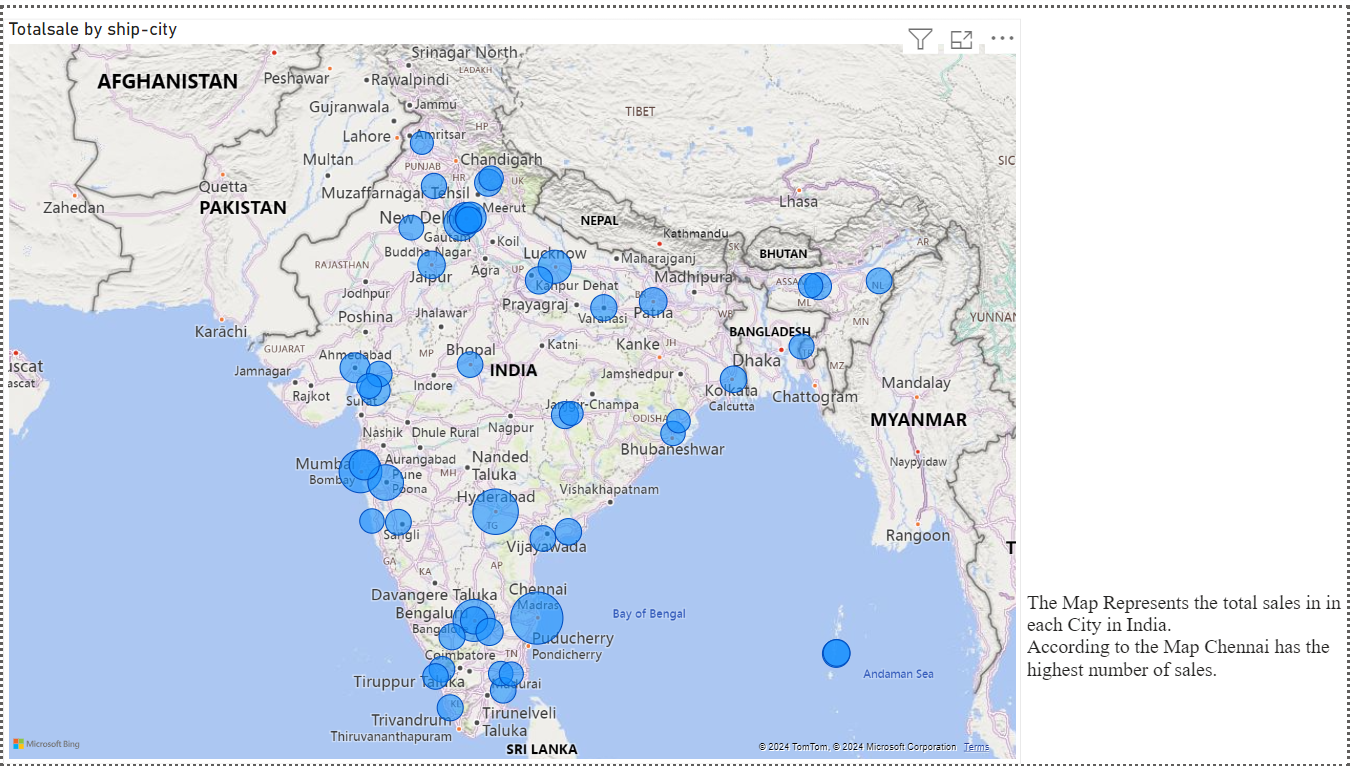

What the dashboard file says about the page in this screenshot:
{"tool":"powerbi","page":{"name":"S.Totalsale","canvas":[1280,720],"ordinal":1},"visuals":[{"type":"map","fields":{"Category":["Amazon Sale Report.ship-city"],"Size":["Shivani.Totalsale"]},"box":[0,9.6,969.6,710.4],"z":0},{"type":"textbox","box":[970.2,550.3,310.1,170.2],"z":1}]}

Visuals, with their boxes in screenshot pixels (x1, y1, x2, y2), scaled from the page's 1280x720 canvas onto the 1353x766 screenshot:
map - Amazon Sale Report.ship-city x Shivani.Totalsale: pyautogui.locateOnScreen(0, 10, 1025, 765)
textbox: pyautogui.locateOnScreen(1026, 585, 1352, 765)
